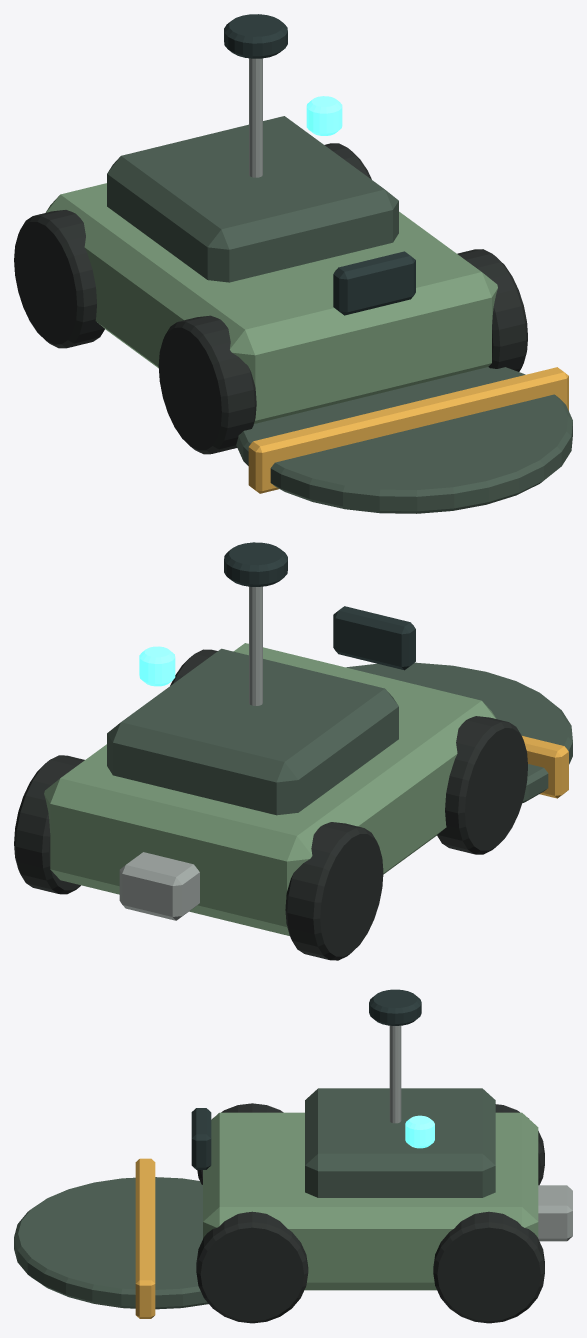
Rendered from fieldvision-maintenance-vehicle.glb.
The picture shows the model from 3 angles, top to bottom: view 1: azimuth 30°, elevation 25°; view 2: azimuth 150°, elevation 25°; view 3: azimuth 270°, elevation 25°; orthographic projection. The views are drawn at different scales.
Visible parts, largest first — view 1: MaintenanceBase, BatteryCover, MowerDeck, MaintenanceWheel_-0.78_-0.72, SafetySkirt, MaintenanceWheel_-0.78_0.72, FrontCamera, MaintenanceWheel_0.78_-0.72, Lidar, SensorMast, SafetyBeacon; view 2: MaintenanceBase, BatteryCover, MaintenanceWheel_-0.78_0.72, MaintenanceWheel_-0.78_-0.72, MowerDeck, MaintenanceWheel_0.78_0.72, RearTowPoint, FrontCamera, Lidar, SafetySkirt, SensorMast, SafetyBeacon; view 3: MaintenanceBase, BatteryCover, MowerDeck, MaintenanceWheel_0.78_-0.72, MaintenanceWheel_0.78_0.72, SafetySkirt, RearTowPoint, Lidar, SensorMast, FrontCamera, SafetyBeacon, MaintenanceWheel_-0.78_-0.72 (+1 smaller).
Boxes of the visible parts, x1=… form: MaintenanceBase: x1=45, y1=183, x2=497, y2=423; BatteryCover: x1=107, y1=116, x2=398, y2=282; MowerDeck: x1=236, y1=367, x2=572, y2=513; MaintenanceWheel_-0.78_-0.72: x1=158, y1=315, x2=256, y2=454; SafetySkirt: x1=248, y1=367, x2=568, y2=493; MaintenanceWheel_-0.78_0.72: x1=14, y1=210, x2=104, y2=348; FrontCamera: x1=333, y1=251, x2=415, y2=315; MaintenanceWheel_0.78_-0.72: x1=457, y1=249, x2=527, y2=371; Lidar: x1=224, y1=14, x2=287, y2=58; SensorMast: x1=249, y1=58, x2=262, y2=177; SafetyBeacon: x1=306, y1=96, x2=342, y2=135; MaintenanceBase: x1=44, y1=643, x2=496, y2=935; BatteryCover: x1=107, y1=648, x2=398, y2=815; MaintenanceWheel_-0.78_0.72: x1=285, y1=822, x2=383, y2=960; MaintenanceWheel_-0.78_-0.72: x1=437, y1=716, x2=527, y2=854; MowerDeck: x1=346, y1=662, x2=572, y2=803; MaintenanceWheel_0.78_0.72: x1=14, y1=755, x2=84, y2=894; RearTowPoint: x1=119, y1=852, x2=199, y2=920; FrontCamera: x1=333, y1=606, x2=415, y2=670; Lidar: x1=224, y1=542, x2=287, y2=586; SafetySkirt: x1=522, y1=736, x2=568, y2=798; SensorMast: x1=249, y1=586, x2=262, y2=705; SafetyBeacon: x1=139, y1=646, x2=175, y2=686; MaintenanceBase: x1=203, y1=1112, x2=538, y2=1290; BatteryCover: x1=305, y1=1088, x2=495, y2=1197; MowerDeck: x1=14, y1=1177, x2=208, y2=1309; MaintenanceWheel_0.78_-0.72: x1=196, y1=1211, x2=308, y2=1323; MaintenanceWheel_0.78_0.72: x1=433, y1=1211, x2=544, y2=1323; SafetySkirt: x1=135, y1=1158, x2=155, y2=1318; RearTowPoint: x1=538, y1=1185, x2=572, y2=1241; Lidar: x1=369, y1=989, x2=421, y2=1025; SensorMast: x1=389, y1=1025, x2=401, y2=1123; FrontCamera: x1=191, y1=1108, x2=211, y2=1169; SafetyBeacon: x1=405, y1=1115, x2=434, y2=1148; MaintenanceWheel_-0.78_-0.72: x1=197, y1=1103, x2=283, y2=1184.
Bounding box in the file's own units: 1.8 × 1.78 × 3.4.
